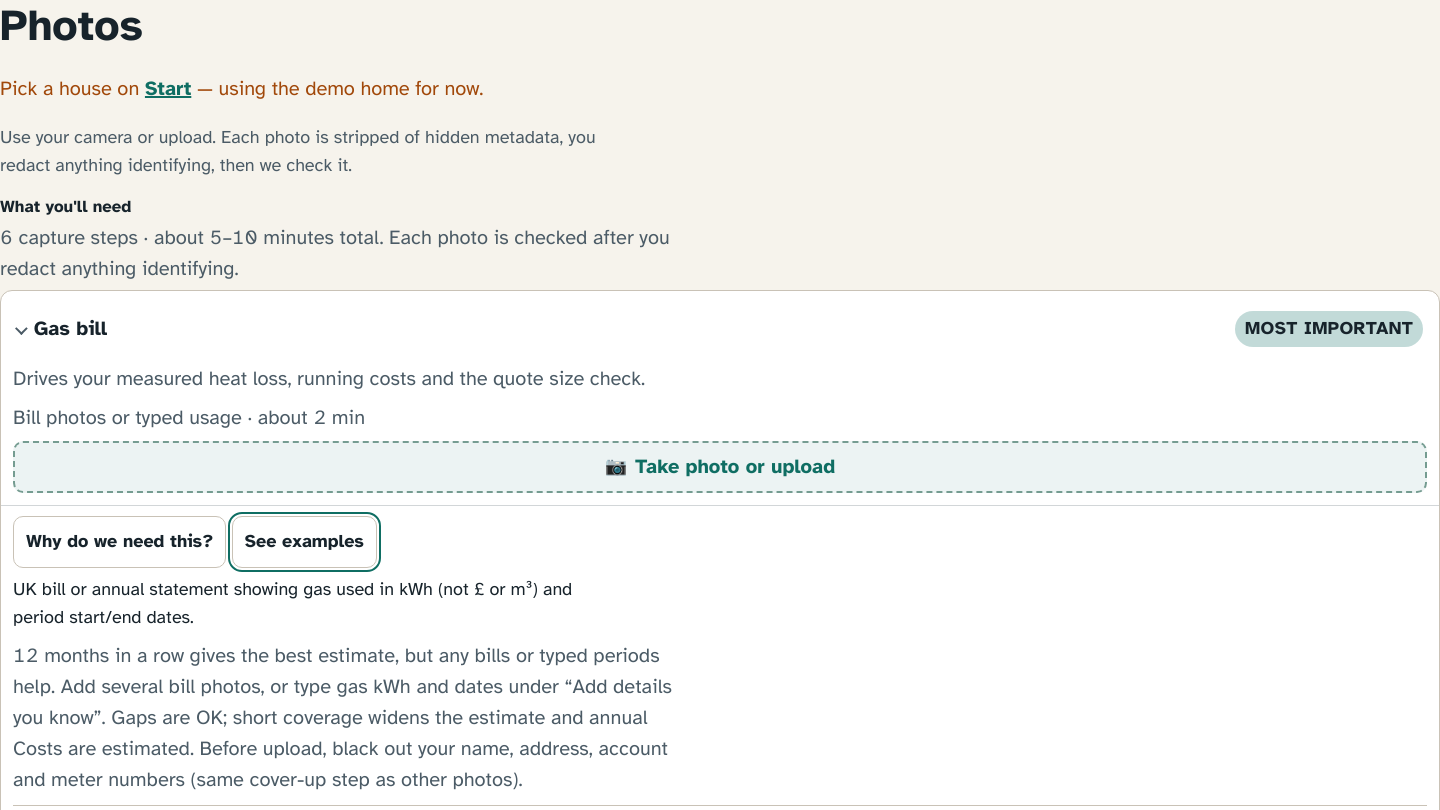
CaptureScreen guide › opens the examples dialog, traps focus, closes on Escape, and restores focus
Click the button "See examples" at (304, 542), box top-left (232, 516), bottom-right (377, 568)
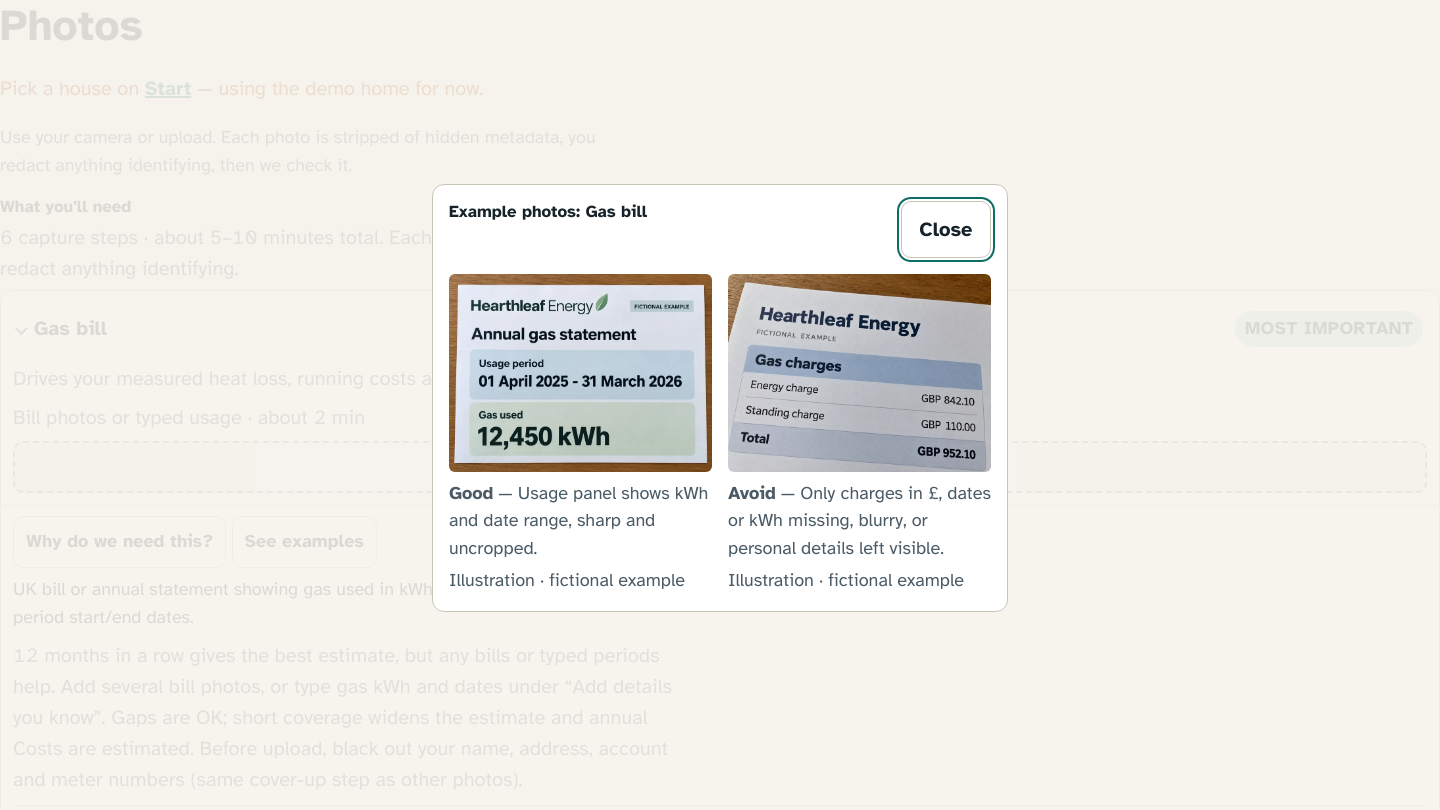
Check: the dialog "Example photos:" is shown, box top-left (432, 184), bottom-right (1008, 612)
Press Tab
Press Escape
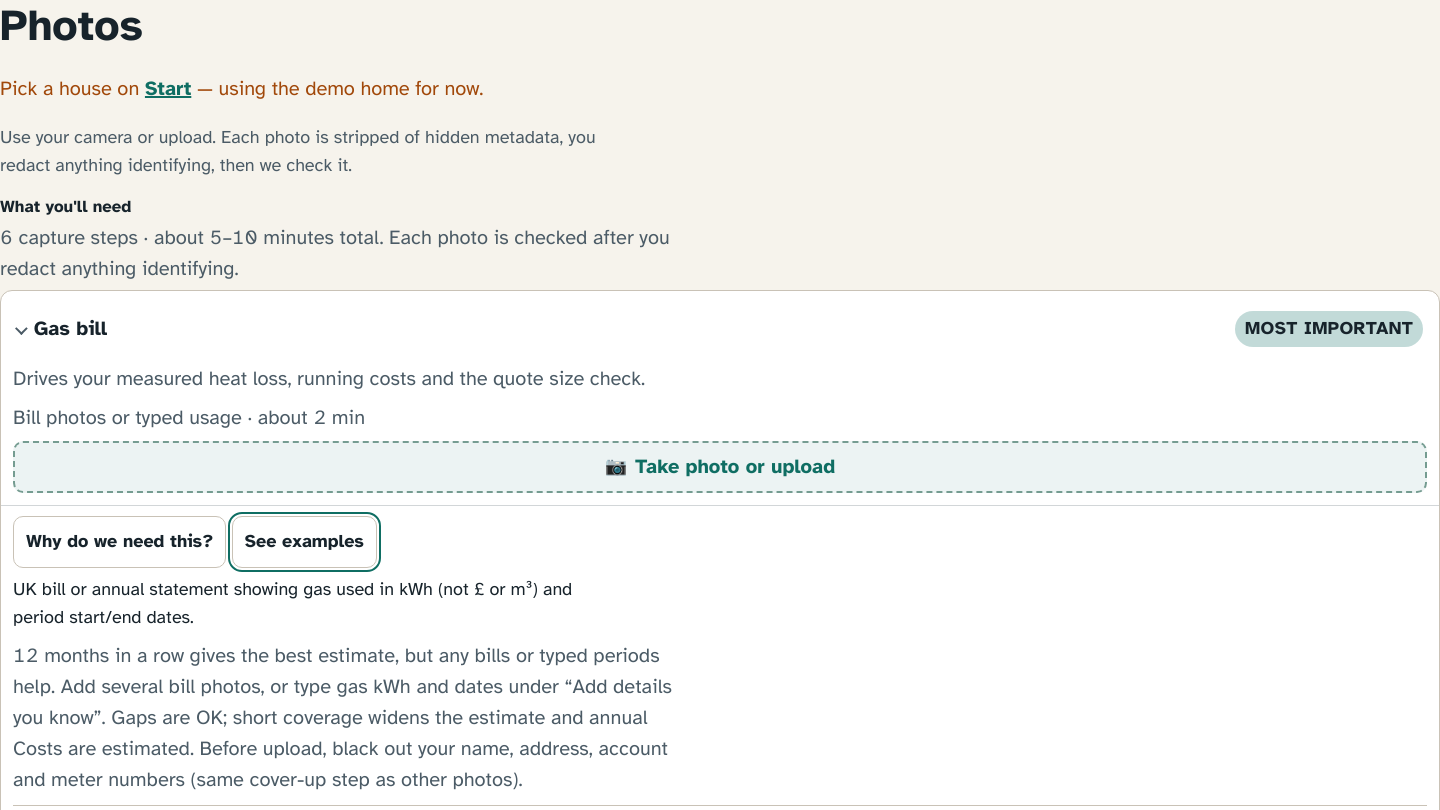
Check: the dialog is gone
